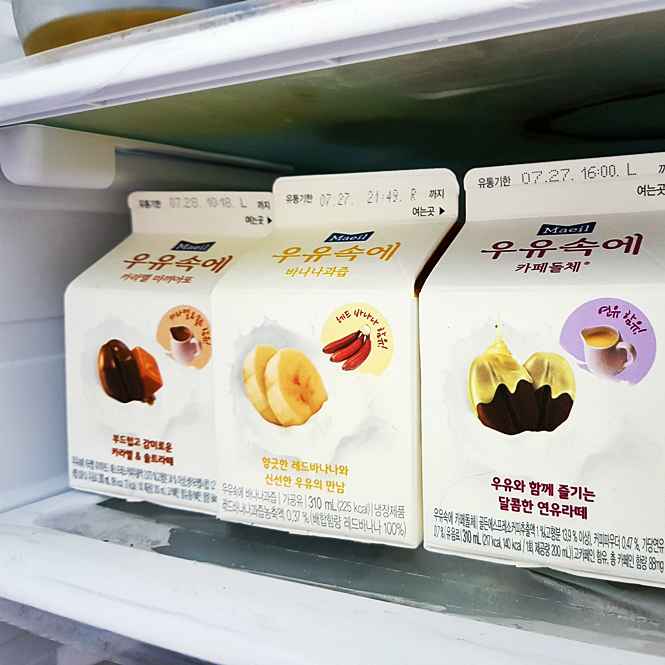milk: (61, 159, 665, 580)
